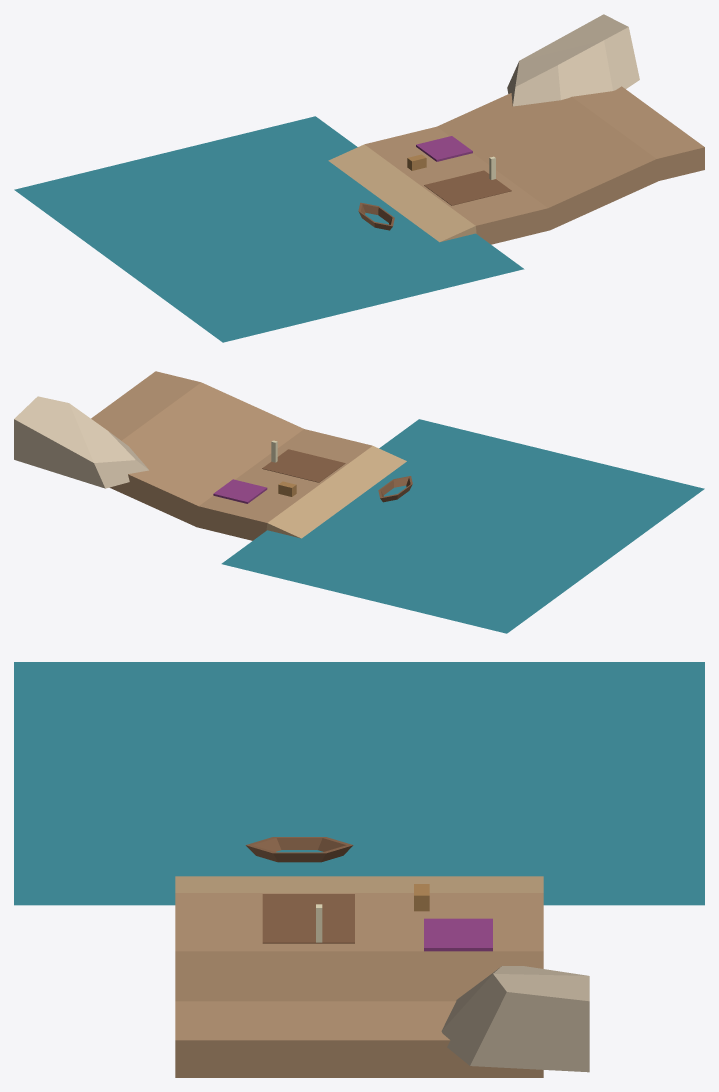
Rendered from harbor-landing.glb.
3 views of the same model, one above another, from view 1: azimuth 30°, elevation 25°; view 2: azimuth 150°, elevation 25°; view 3: azimuth 270°, elevation 25° (orthographic). The views are drawn at different scales.
Parts seen in each view (by area): view 1: Water_Surface, Shore_Ground, Sandstone_Backdrop, Cargo_Footprint, Dye_Stall_Footprint, Shallow_Boat_Proxy; view 2: Water_Surface, Shore_Ground, Sandstone_Backdrop, Cargo_Footprint, Dye_Stall_Footprint, Shallow_Boat_Proxy; view 3: Water_Surface, Shore_Ground, Sandstone_Backdrop, Cargo_Footprint, Dye_Stall_Footprint, Shallow_Boat_Proxy.
Boxes of the visible parts, <box> form: Water_Surface: <box>14,116,524,342</box>; Shore_Ground: <box>328,86,704,244</box>; Sandstone_Backdrop: <box>507,14,639,106</box>; Cargo_Footprint: <box>424,170,511,205</box>; Dye_Stall_Footprint: <box>416,136,472,161</box>; Shallow_Boat_Proxy: <box>358,202,394,230</box>; Water_Surface: <box>221,419,704,633</box>; Shore_Ground: <box>91,371,406,540</box>; Sandstone_Backdrop: <box>14,396,148,488</box>; Cargo_Footprint: <box>262,449,345,482</box>; Dye_Stall_Footprint: <box>213,479,267,503</box>; Shallow_Boat_Proxy: <box>378,476,412,502</box>; Water_Surface: <box>14,662,704,905</box>; Shore_Ground: <box>175,876,543,1077</box>; Sandstone_Backdrop: <box>441,966,589,1072</box>; Cargo_Footprint: <box>262,894,354,943</box>; Dye_Stall_Footprint: <box>424,918,492,951</box>; Shallow_Boat_Proxy: <box>245,837,353,862</box>.
Size of the model in its own units: 46 by 8.26 by 30.
